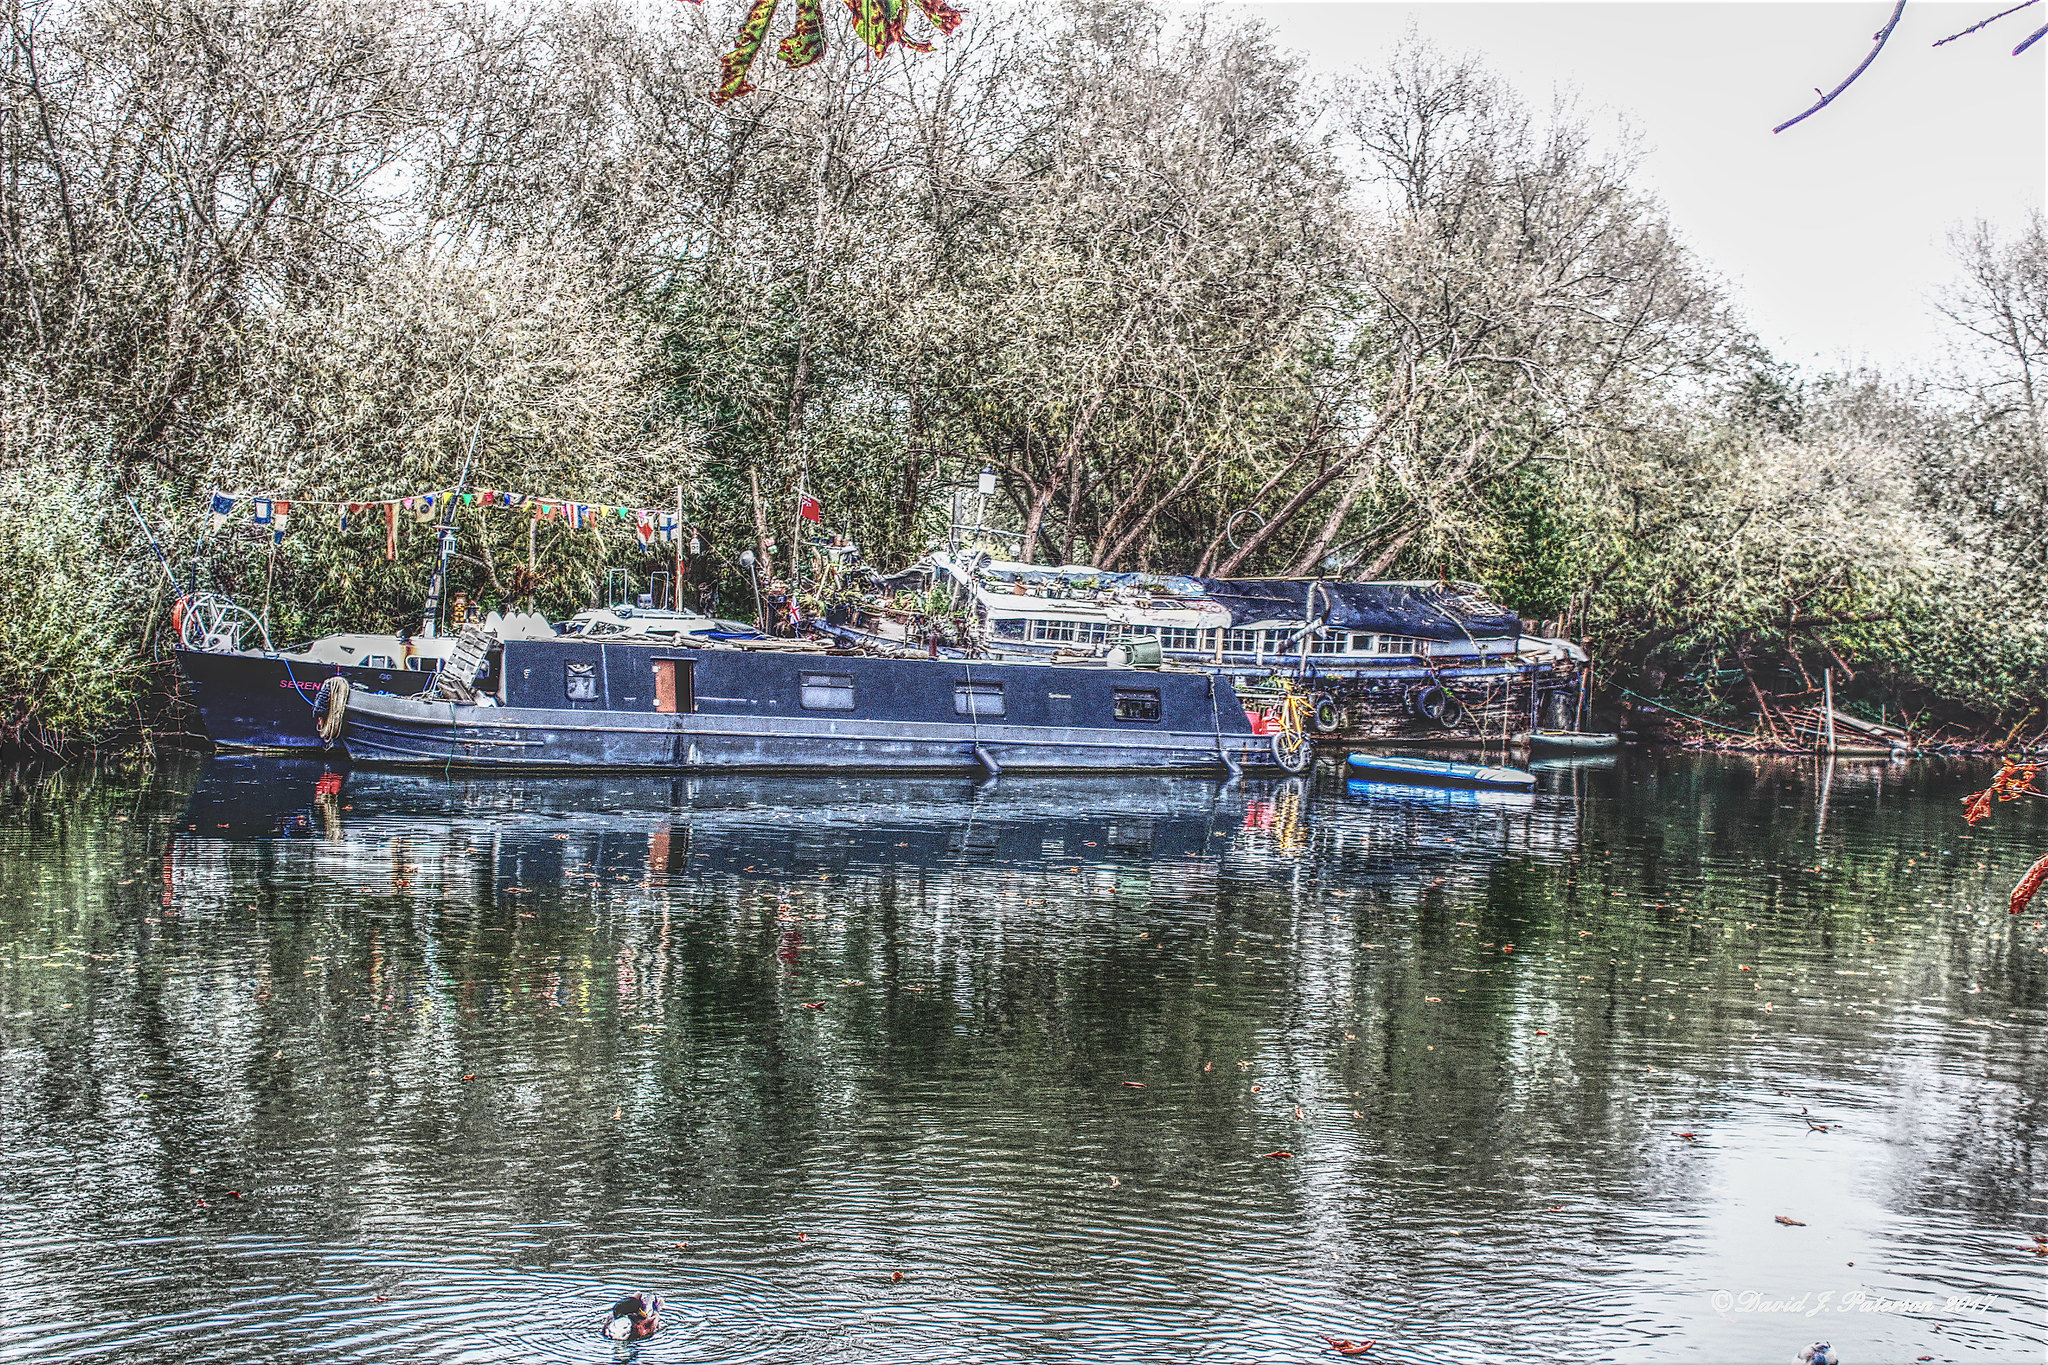boat: (148, 481, 1335, 803)
